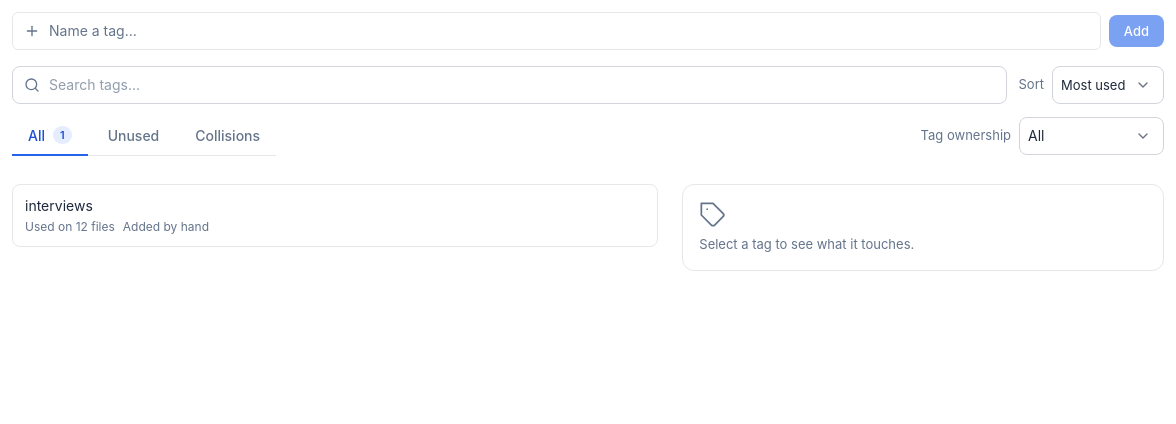
Test: tag manager modal › ownership gating › offers write controls on my own tag
Step 1. Click the option "interviews Used on 12 files Added by hand" → (59, 206), box [12, 184, 658, 247]
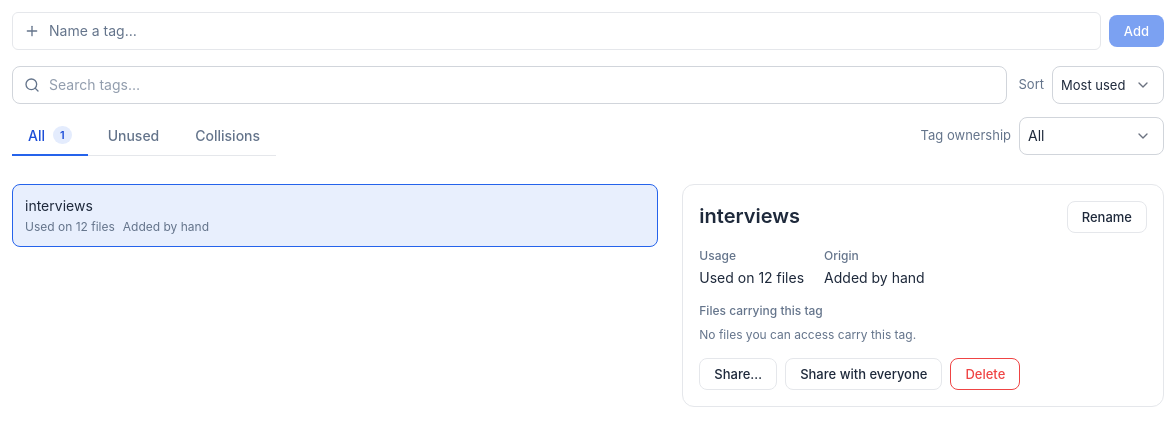
Result: the button "Rename" is shown at [1067, 201, 1147, 233]
Result: the button "Delete" is shown at [950, 358, 1020, 390]
